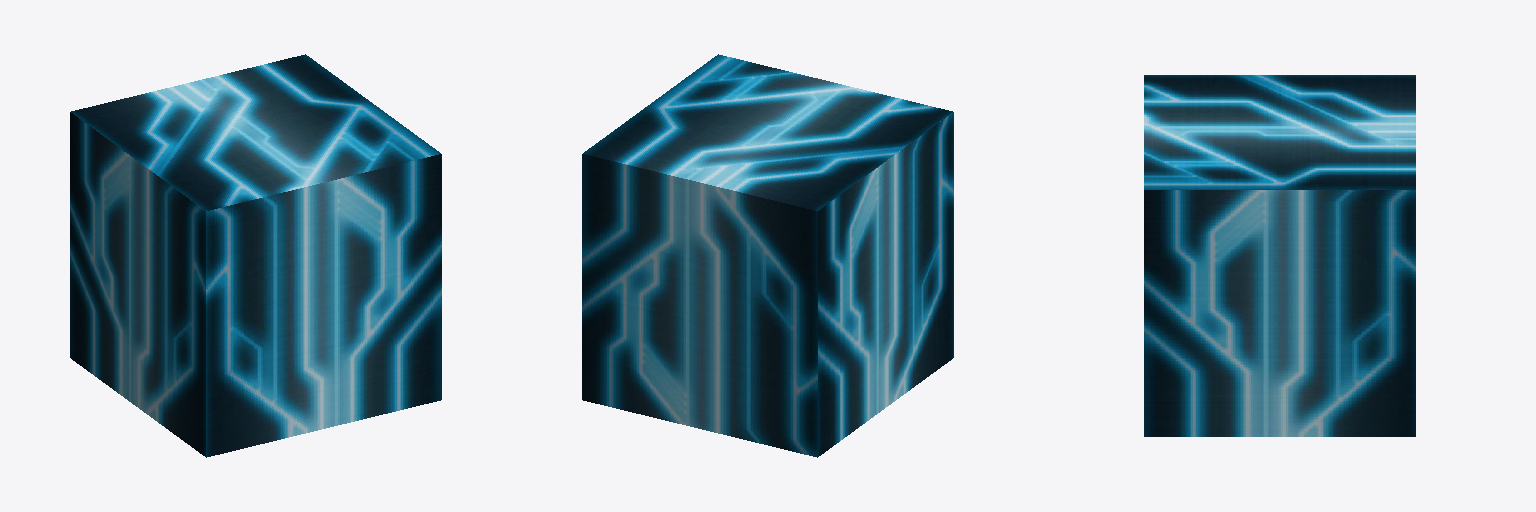
3 views of the same model, side by side, from view 1: azimuth 30°, elevation 25°; view 2: azimuth 150°, elevation 25°; view 3: azimuth 270°, elevation 25° (orthographic).
Parts seen in each view (by area): view 1: pCube1; view 2: pCube1; view 3: pCube1.
Part boxes in pixels (x1,y1,x2,y2): pCube1: (70,54,441,457); pCube1: (582,54,953,457); pCube1: (1144,75,1415,436).
Size of the model in its own units: 1 by 1 by 1.
1 materials, 1 textured.